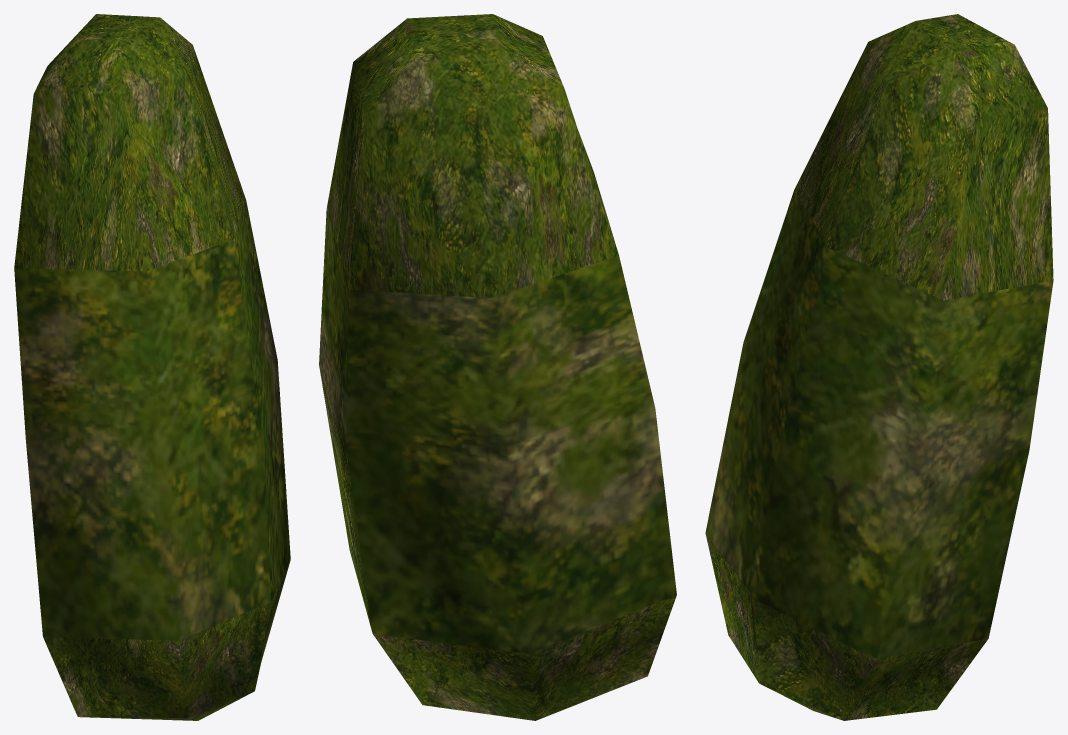
Rendered from OVERHILL_A_01_ROCK_BRIDGE07.fbx.
3 renders of one model, left to right at view 1: azimuth 30°, elevation 25°; view 2: azimuth 150°, elevation 25°; view 3: azimuth 270°, elevation 25°, orthographic. The views are drawn at different scales.
Parts seen in each view (by area): view 1: OVERHILL_A_01_ROCK_BRIDGE07; view 2: OVERHILL_A_01_ROCK_BRIDGE07; view 3: OVERHILL_A_01_ROCK_BRIDGE07.
Boxes of the visible parts, box(x1,y1,x2,y2) form: OVERHILL_A_01_ROCK_BRIDGE07: box(14, 14, 290, 720); OVERHILL_A_01_ROCK_BRIDGE07: box(319, 14, 676, 720); OVERHILL_A_01_ROCK_BRIDGE07: box(705, 14, 1053, 720).
Bounding box in the file's own units: 22555 × 49828 × 23291.
1 material, 1 textured.
